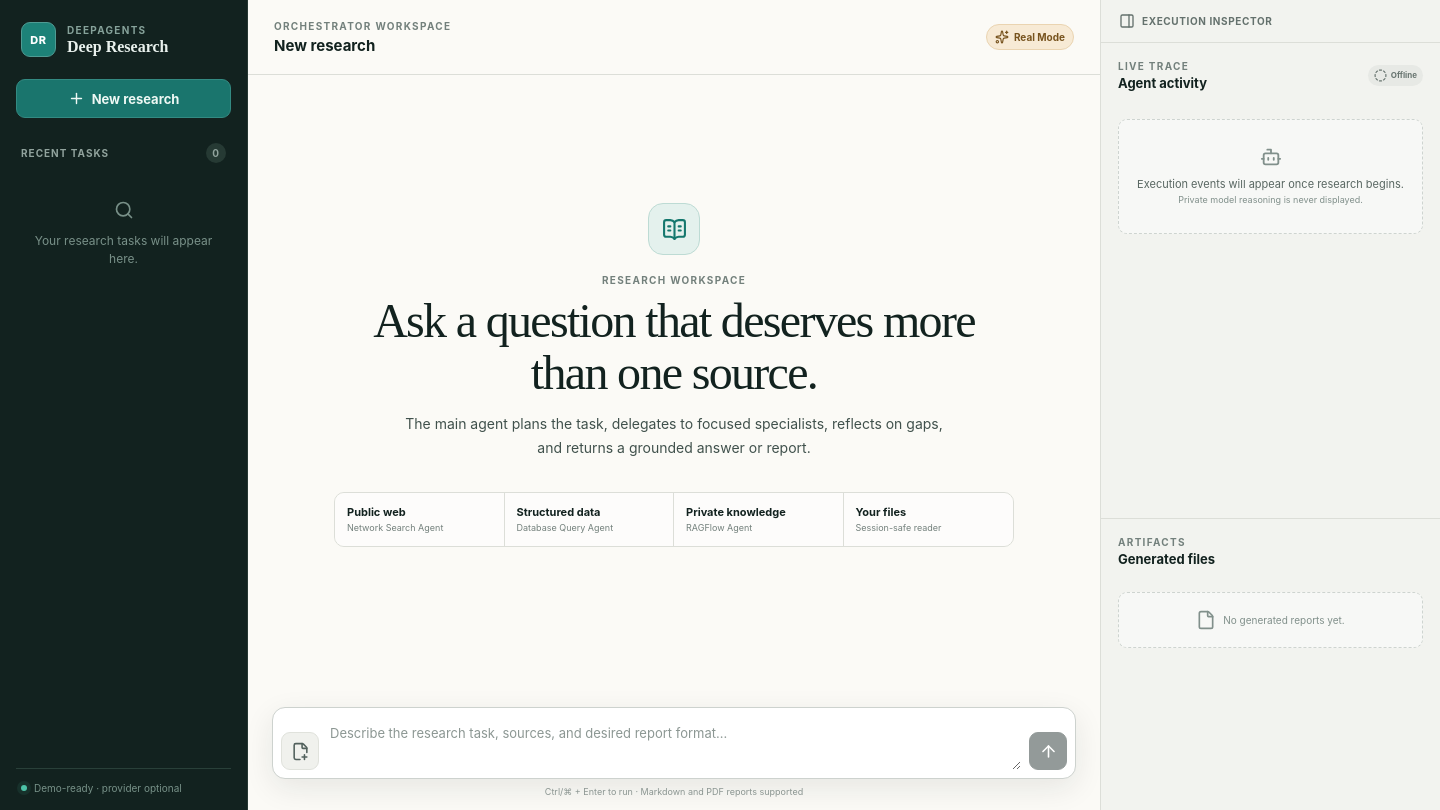
Scenario: wires task events into the final answer and generated-file panel
Expected: the text "Real Mode" is shown, [986, 24, 1074, 50]
Replace the text in the text box labelled "research task" with "Create a Markdown report" at (674, 743), box [327, 716, 1021, 770]
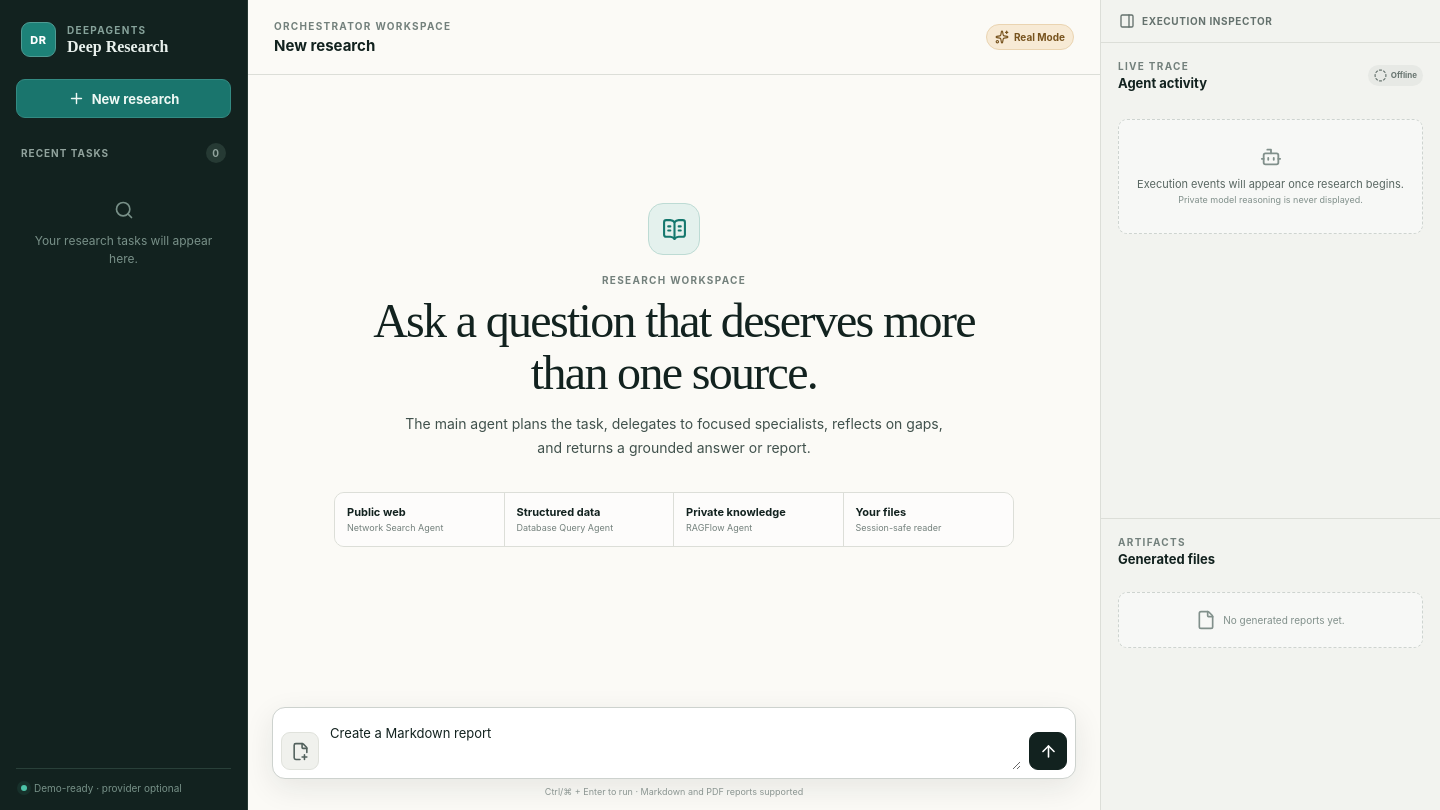
Click the button named "Start research".
click(1048, 751)  # box [1029, 732, 1067, 770]
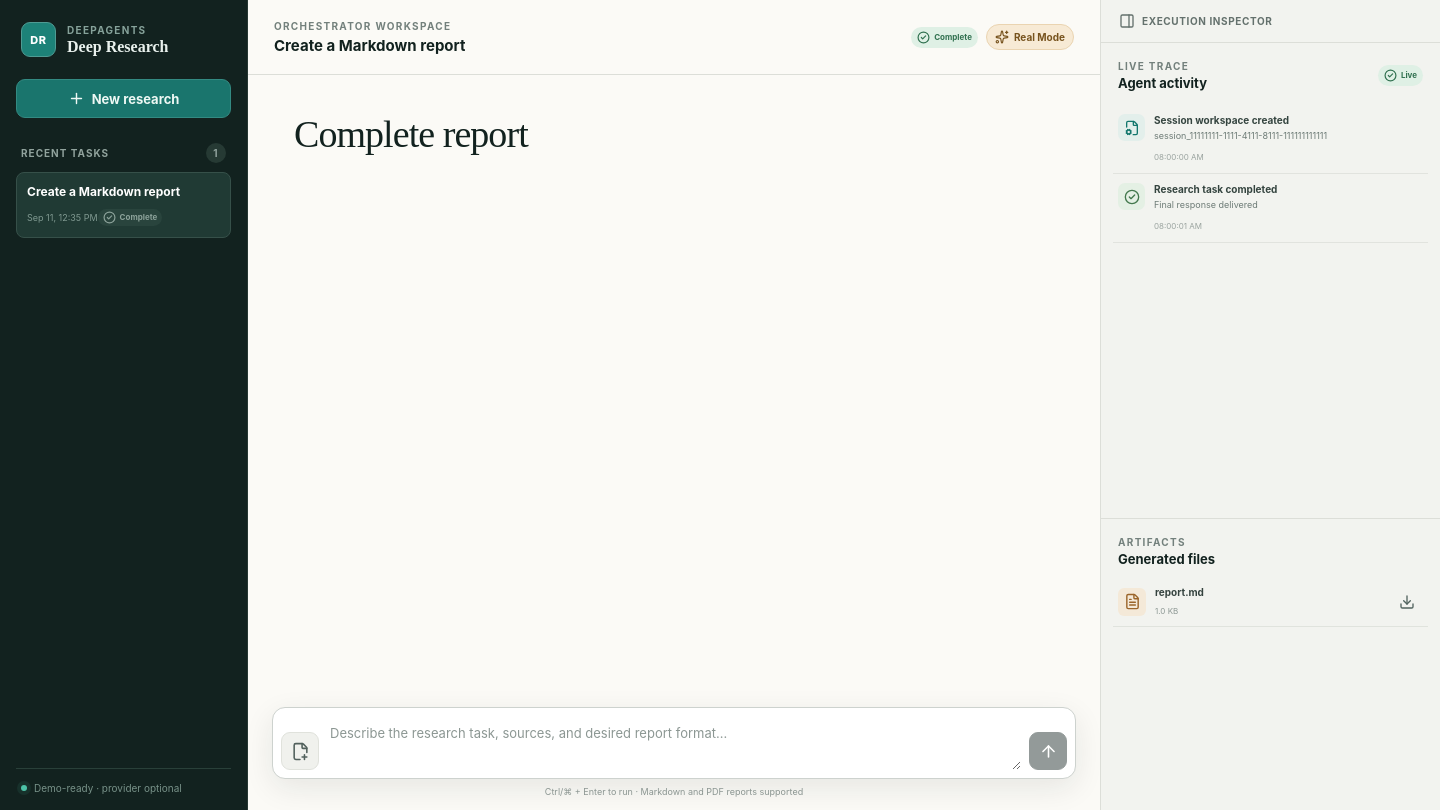
Expected: the heading "Complete report" is shown, [294, 113, 528, 155]
Expected: the text "report.md" is shown, [1155, 586, 1204, 598]
